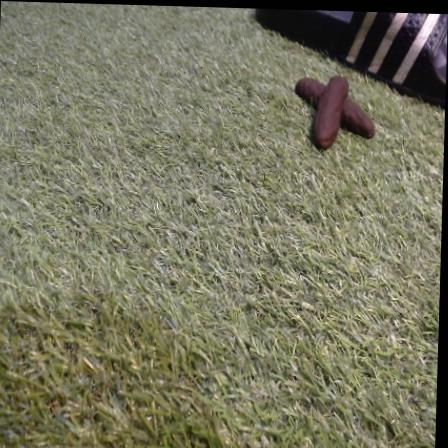dog-poop: (296, 72, 377, 145)
